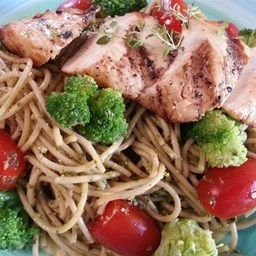background: (0, 0, 102, 102)
